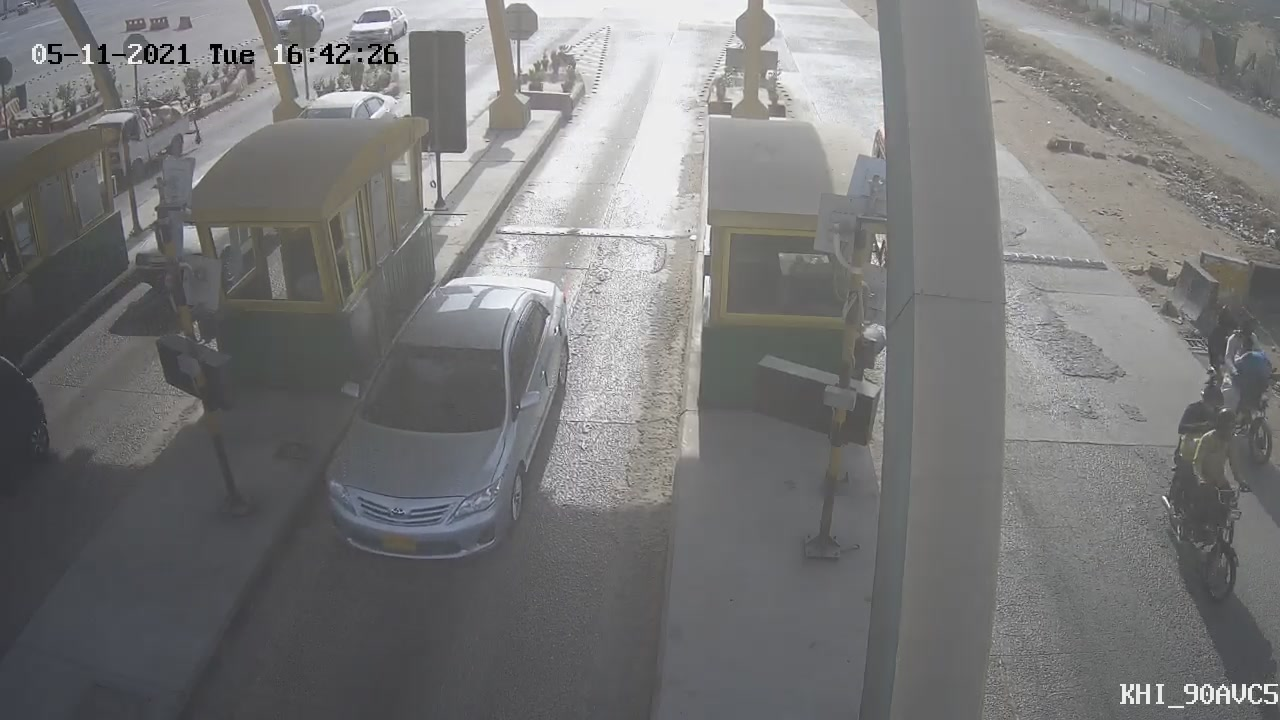F1: (291, 259, 589, 586)
